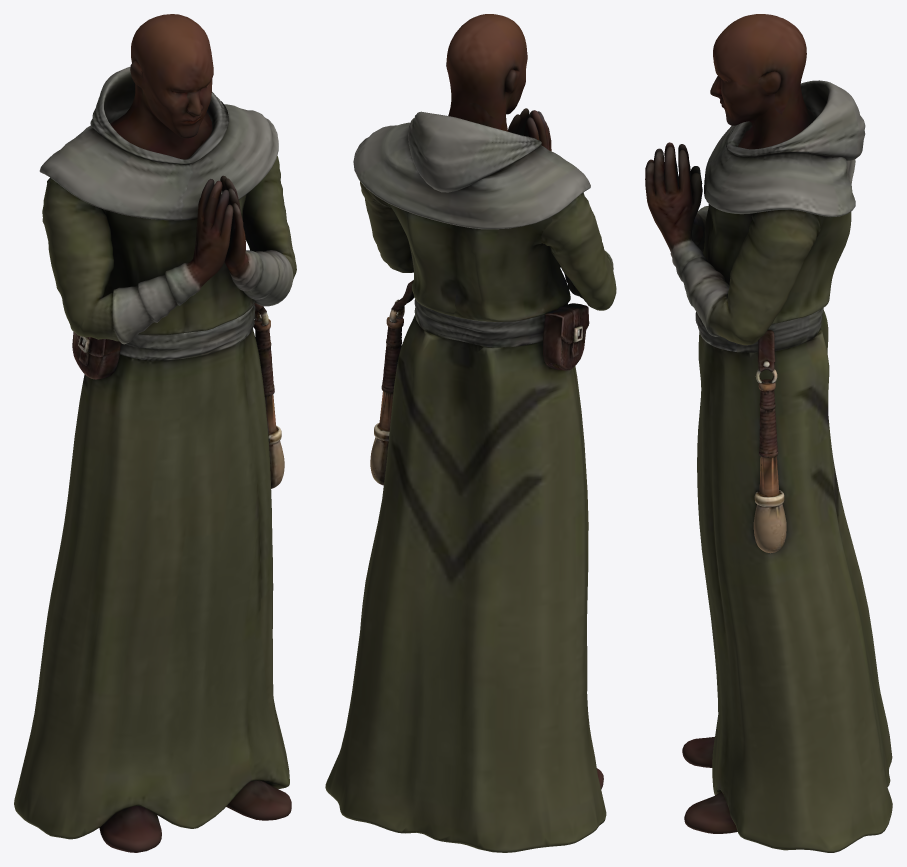
Rendered from MZ4250 - Acolyte Male_2 2025.glb.
3 renders of one model, left to right at view 1: azimuth 30°, elevation 25°; view 2: azimuth 150°, elevation 25°; view 3: azimuth 270°, elevation 25°, orthographic. The views are drawn at different scales.
Parts seen in each view (by area): view 1: Body.002; view 2: Body.002; view 3: Body.002.
Boxes of the visible parts, x1,y1,x2,y2 form: Body.002: (14,14,296,852); Body.002: (325,14,616,852); Body.002: (645,14,892,852).
Size of the model in its own units: 31.41 by 91.65 by 26.52.
Materials: 2 (2 with a texture image).
